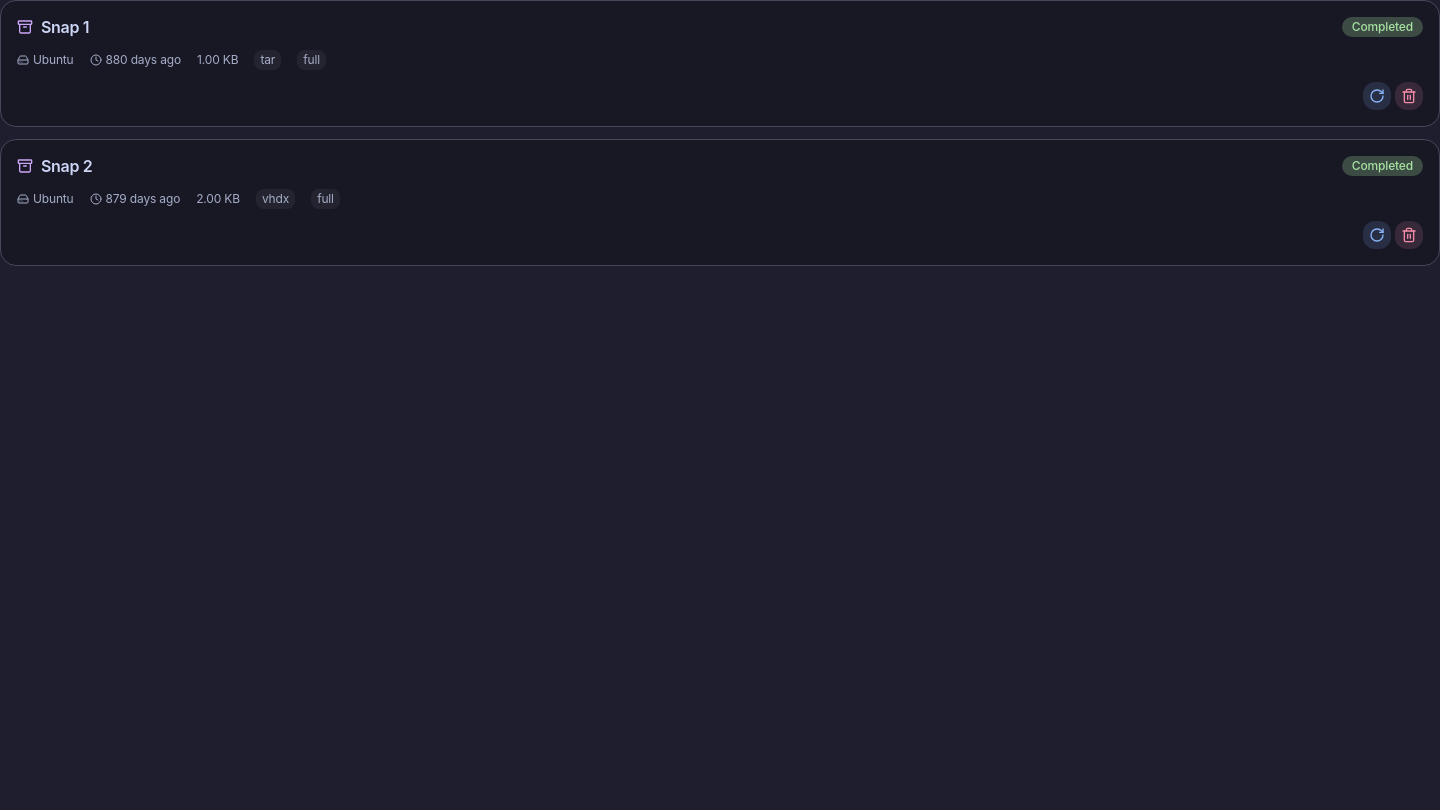
Test: SnapshotList › opens delete confirmation dialog when delete clicked
The image size is (1440, 810).
Step 1. Click the 1st button named "Delete snapshot" → (1409, 96), box [1395, 82, 1423, 110]
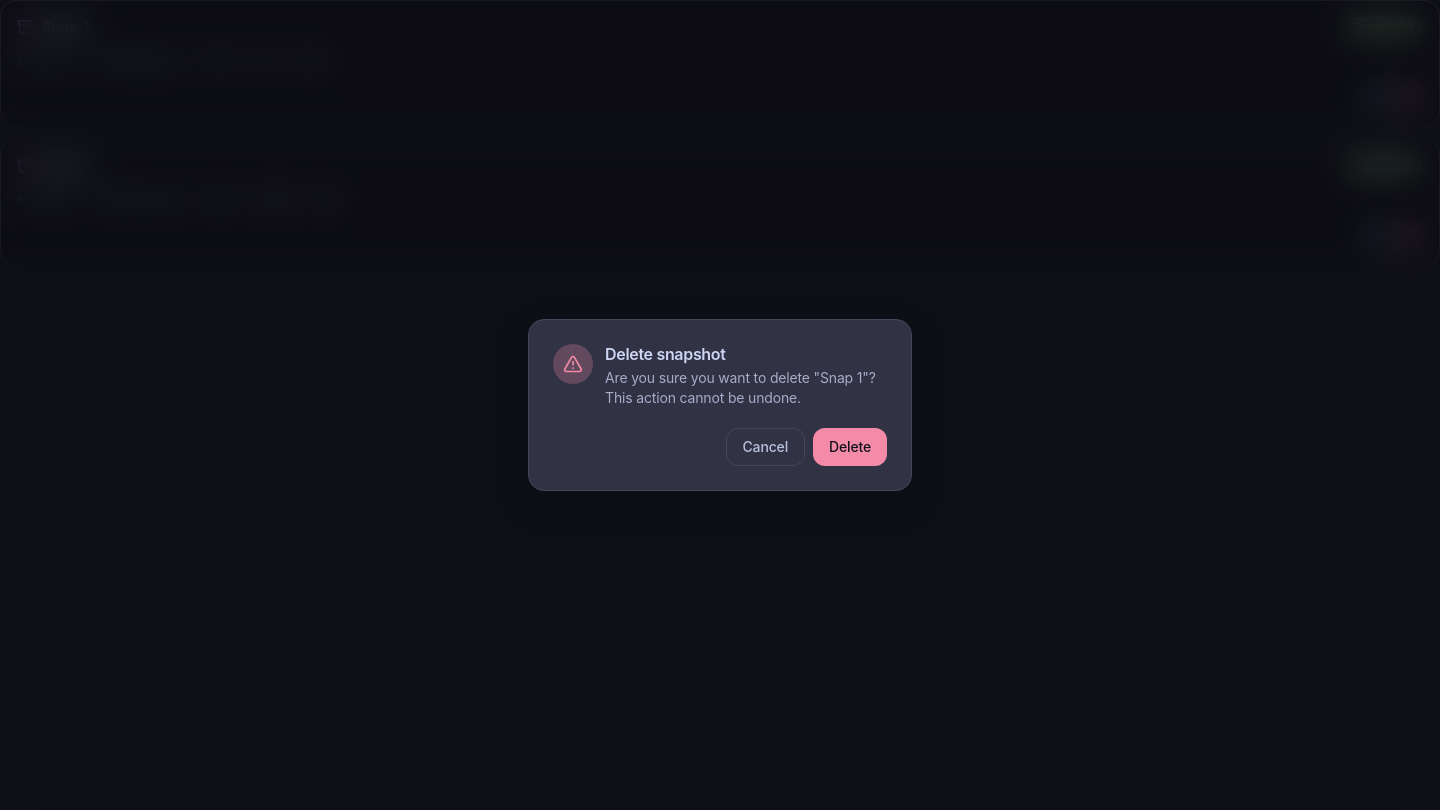
Expected: the dialog is shown, [528, 319, 912, 491]
Expected: the text "Are you sure you want to delete \"Snap 1\"" is shown, [605, 369, 876, 406]
